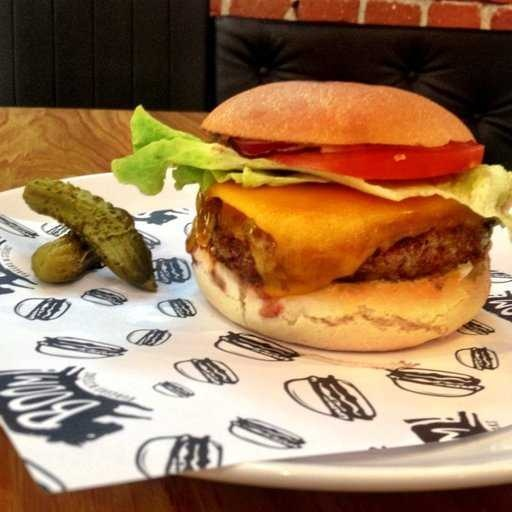hamburger: (193, 66, 500, 364)
